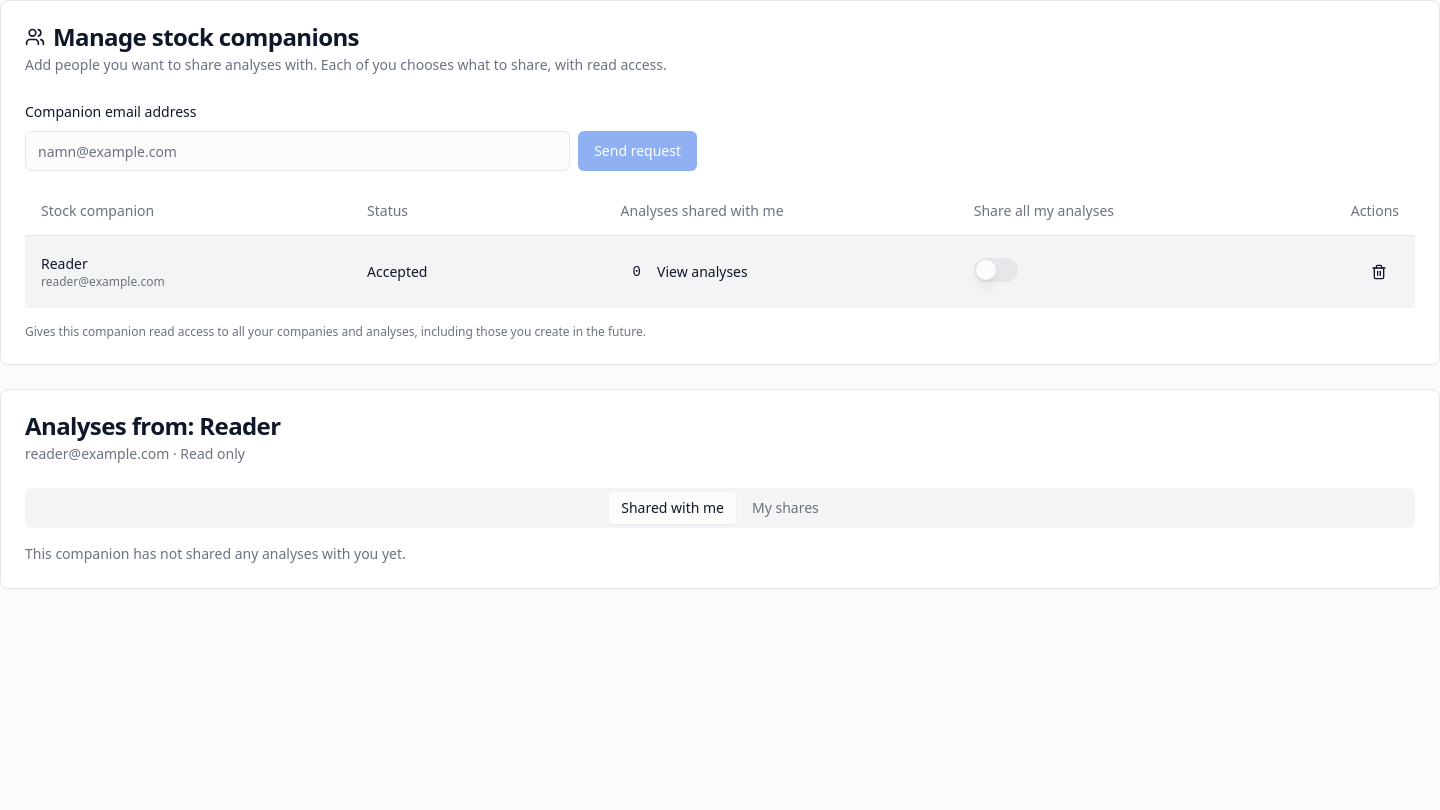
Test: stock companion page › enables global sharing only for the selected companion
Click the switch named "Share all my analyses: reader@example.com" at (996, 270), box [974,258,1018,282]
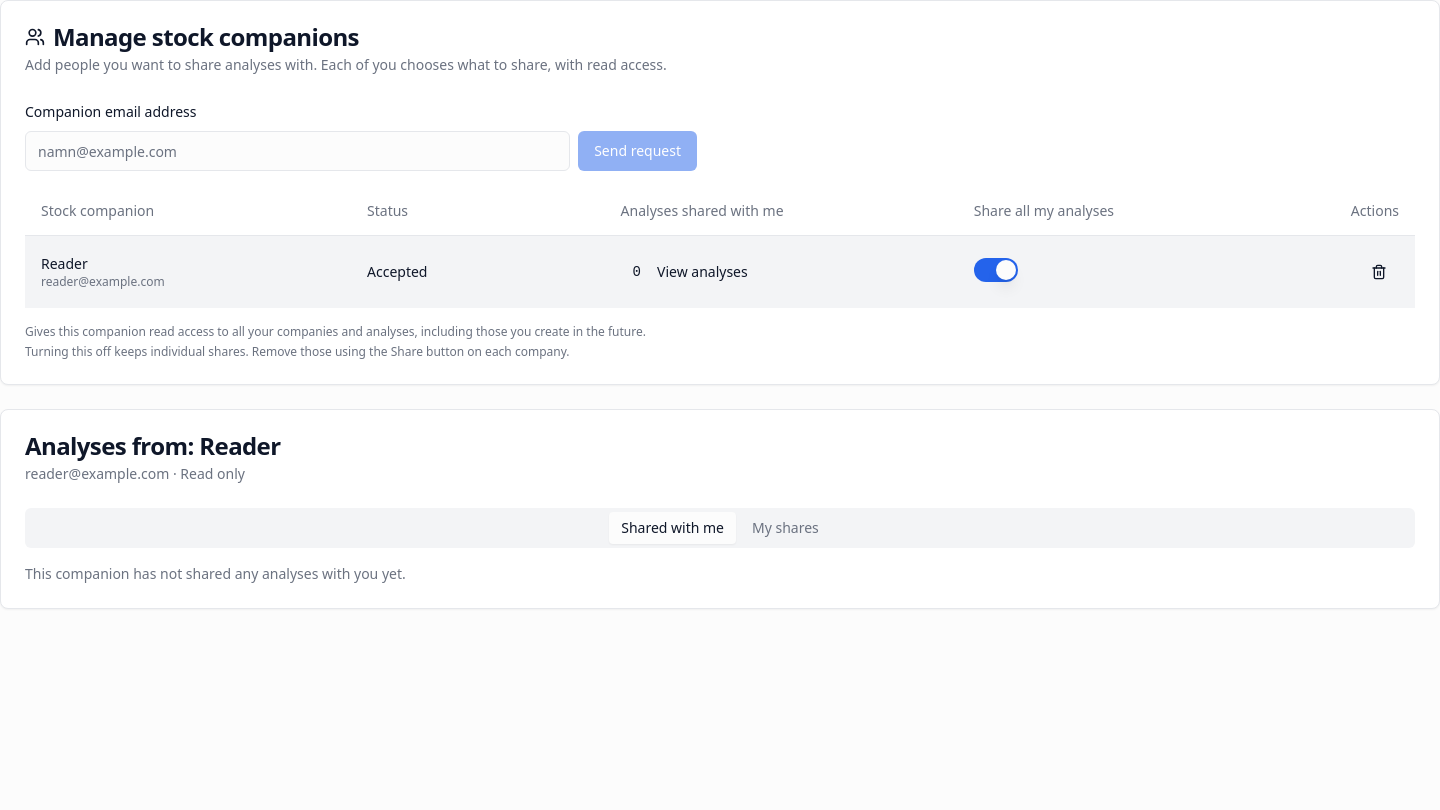
Check: the text "including those you create in the future" is shown, box [25,322,646,340]
Check: the switch named "Share all my analyses: reader@example.com" is checked, box [974,258,1018,282]
